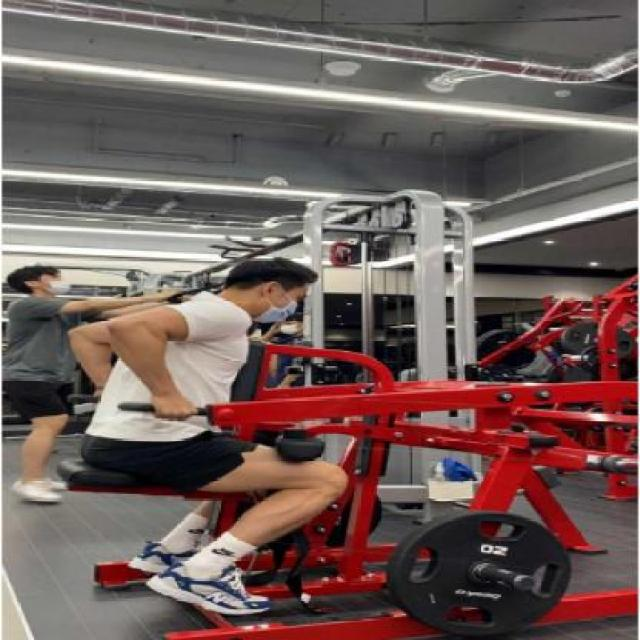seated dip machine: (44, 234, 638, 640)
